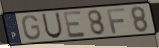8: (86, 8, 106, 37), (130, 5, 150, 33)
E: (62, 9, 88, 39)
F: (105, 7, 127, 35)
G: (21, 14, 43, 41)
U: (41, 12, 64, 40)
